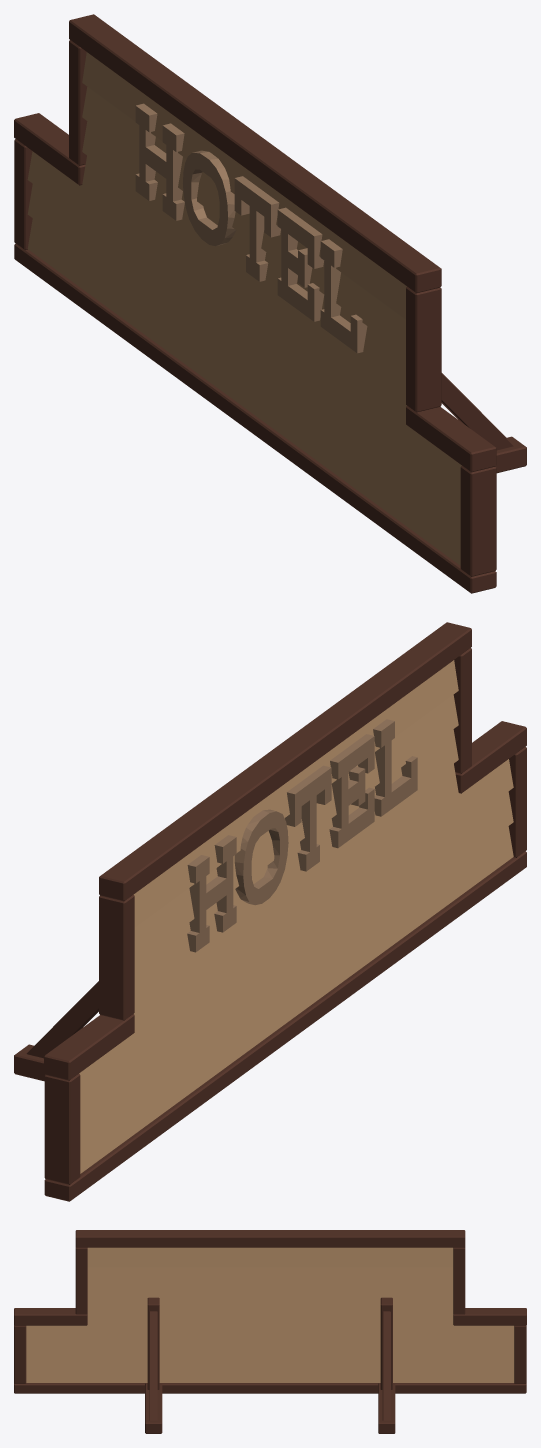
The model's file is hotel-sign-c.glb.
3 views of the same model, one above another, from view 1: azimuth 30°, elevation 25°; view 2: azimuth 150°, elevation 25°; view 3: azimuth 270°, elevation 25° (orthographic). The views are drawn at different scales.
Visible parts, largest first — view 1: Hotel Sign C (×3); view 2: Hotel Sign C (×3); view 3: Hotel Sign C (×2).
Boxes of the visible parts, left/top/right/bottom form: Hotel Sign C (×3): left=14, top=14, right=526, bottom=593; Hotel Sign C (×3): left=14, top=622, right=526, bottom=1201; Hotel Sign C (×2): left=14, top=1230, right=526, bottom=1433.
Size of the model in its own units: 1.46 by 2.23 by 6.6.
